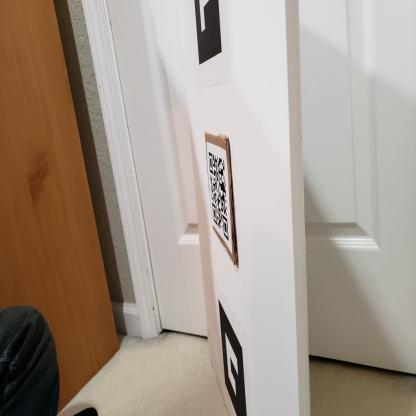qr: (206, 148, 234, 244)
